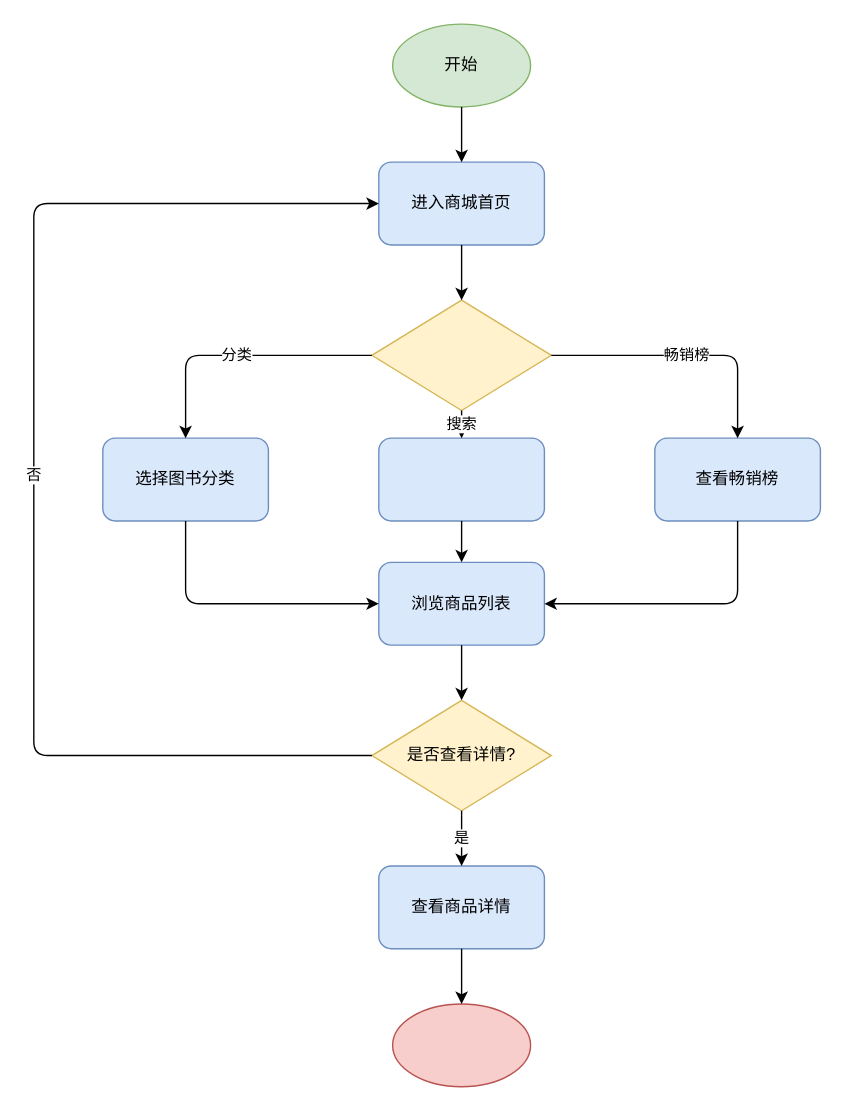
The diagram is 845 pixels wide and 1111 high, and some of its shapes have lost their labels. Each missing label, with the box of its shape:
搜索图书: (377, 437, 544, 521)
结束: (391, 1003, 531, 1087)
选择浏览方式: (371, 299, 551, 411)
